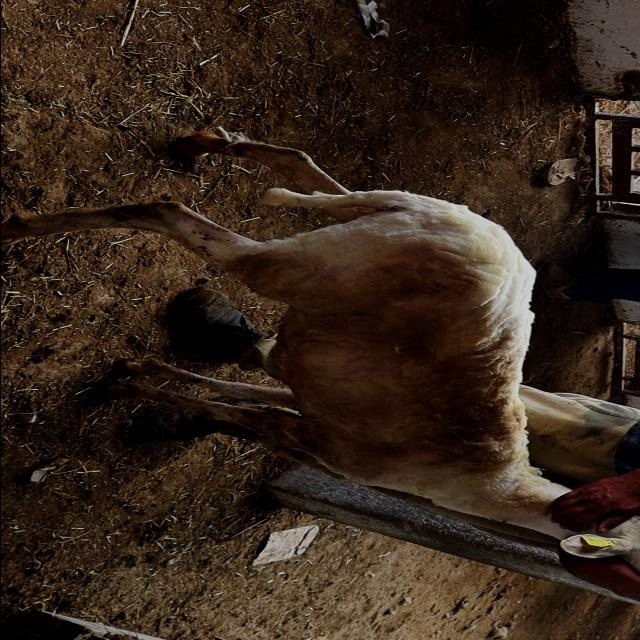Score_5: (1, 128, 640, 570)
